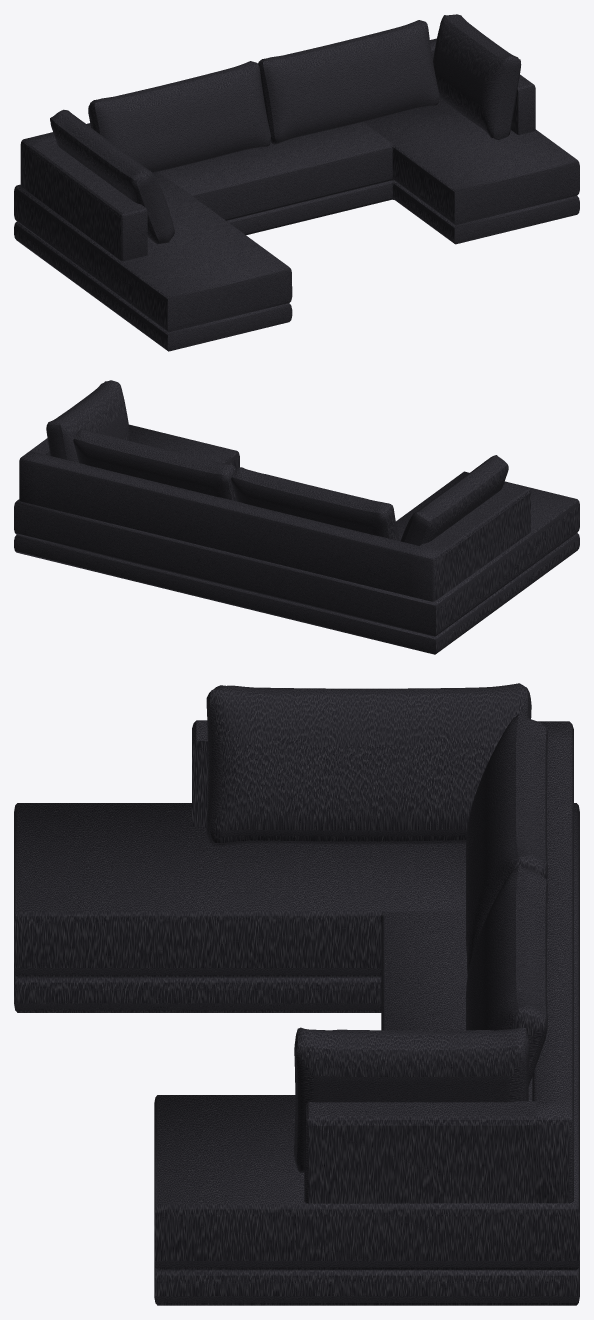
File: Sofa.FBX
3 views of the same model, one above another, from view 1: azimuth 30°, elevation 25°; view 2: azimuth 150°, elevation 25°; view 3: azimuth 270°, elevation 25° (orthographic). The views are drawn at different scales.
Parts seen in each view (by area): view 1: Sofa; view 2: Sofa; view 3: Sofa.
Part boxes in pixels (<box>): Sofa: <box>14,14,579,351</box>; Sofa: <box>14,380,579,654</box>; Sofa: <box>14,683,579,1305</box>.
Bounding box in the file's own units: 399 × 115 × 236.
1 material, 1 textured.
